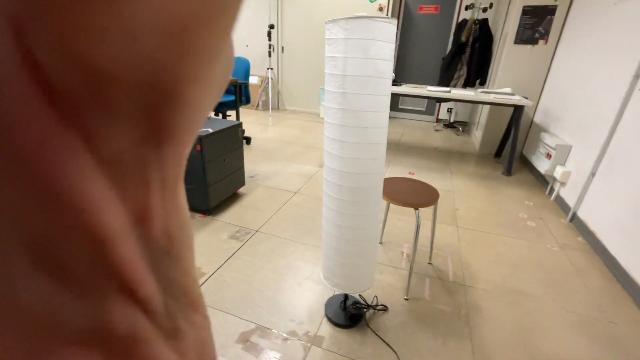Lamp: (318, 11, 402, 337)
Stool: (376, 171, 440, 307)
